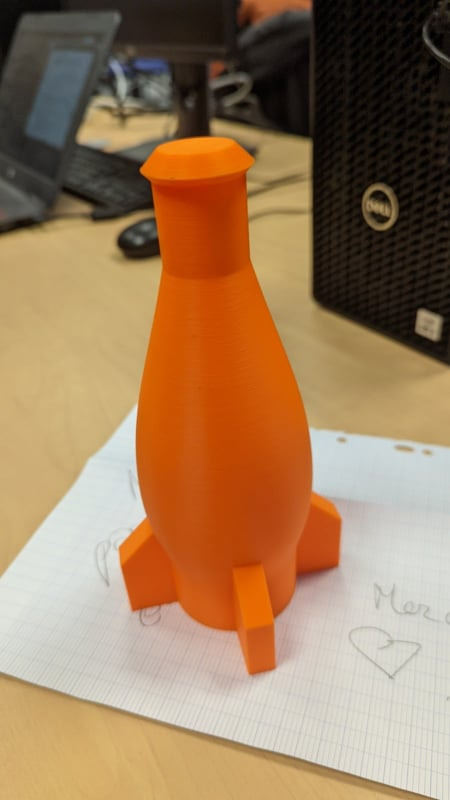bottle: (94, 123, 350, 682)
